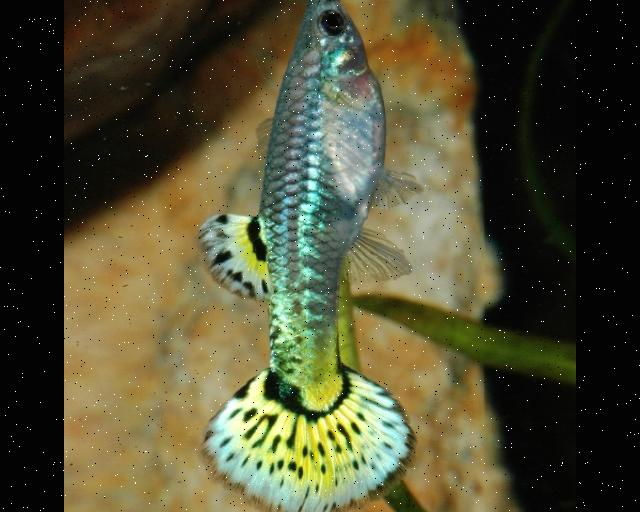Mulut: (289, 0, 358, 54)
Sirip Anal: (340, 224, 412, 284)
Sirip Ekor: (196, 363, 421, 512)
Sirip Perut: (361, 161, 433, 217)
Sirip Punggung: (193, 212, 276, 303)
